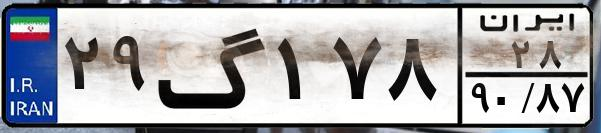0: (495, 70, 520, 125)
1: (270, 28, 330, 110)
2: (57, 26, 110, 100), (508, 27, 537, 80)
7: (330, 28, 385, 110), (560, 70, 590, 125)
8: (385, 28, 445, 110), (537, 27, 568, 80), (535, 70, 560, 125)
9: (110, 28, 156, 98), (470, 70, 495, 125)
گ: (156, 12, 270, 120)
